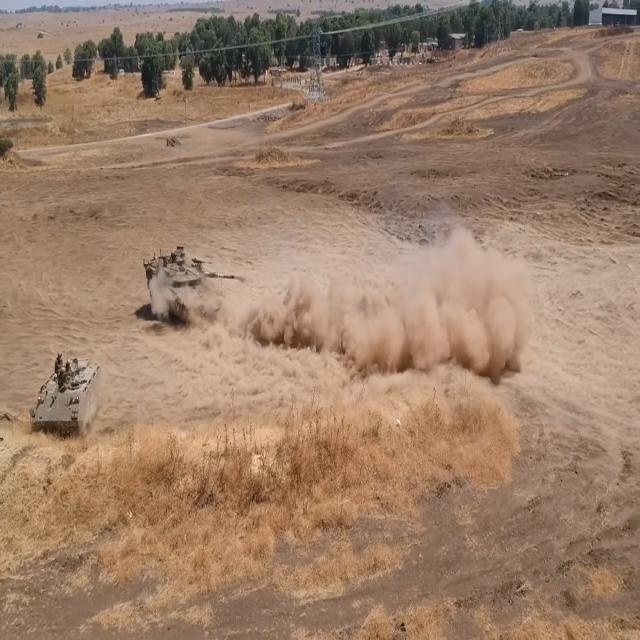tank: (139, 241, 236, 320)
